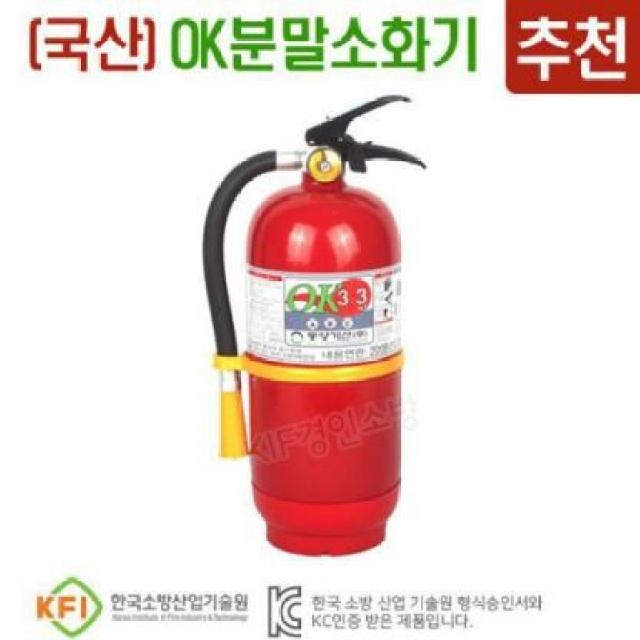fire extinguisher: (201, 93, 428, 558)
